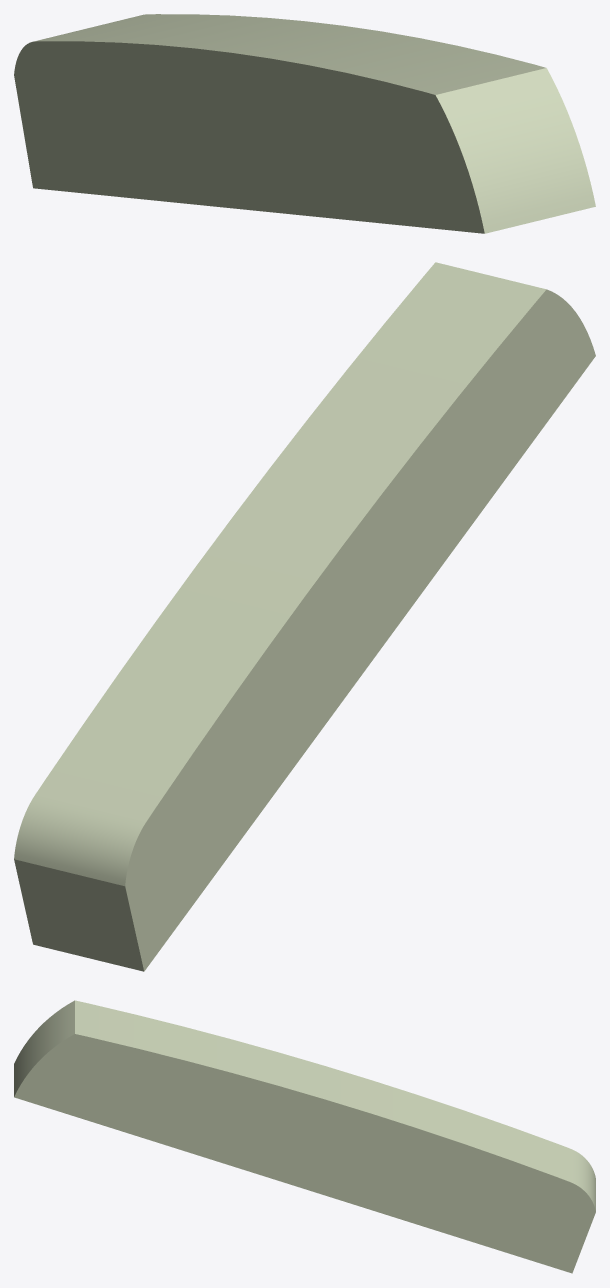
Rendered from original-56.obj.
The picture shows the model from 3 angles, top to bottom: view 1: azimuth 30°, elevation 25°; view 2: azimuth 150°, elevation 25°; view 3: azimuth 270°, elevation 25°; orthographic projection. The views are drawn at different scales.
Visible parts, largest first — view 1: mesh17/mesh17-geometry#mesh17-geometry; view 2: mesh17/mesh17-geometry#mesh17-geometry; view 3: mesh17/mesh17-geometry#mesh17-geometry.
Boxes of the visible parts, x1=… form: mesh17/mesh17-geometry#mesh17-geometry: x1=14, y1=14, x2=595, y2=233; mesh17/mesh17-geometry#mesh17-geometry: x1=14, y1=262, x2=595, y2=971; mesh17/mesh17-geometry#mesh17-geometry: x1=14, y1=1000, x2=595, y2=1273.
Size of the model in its own units: 0.2025 by 0.675 by 1.49.
